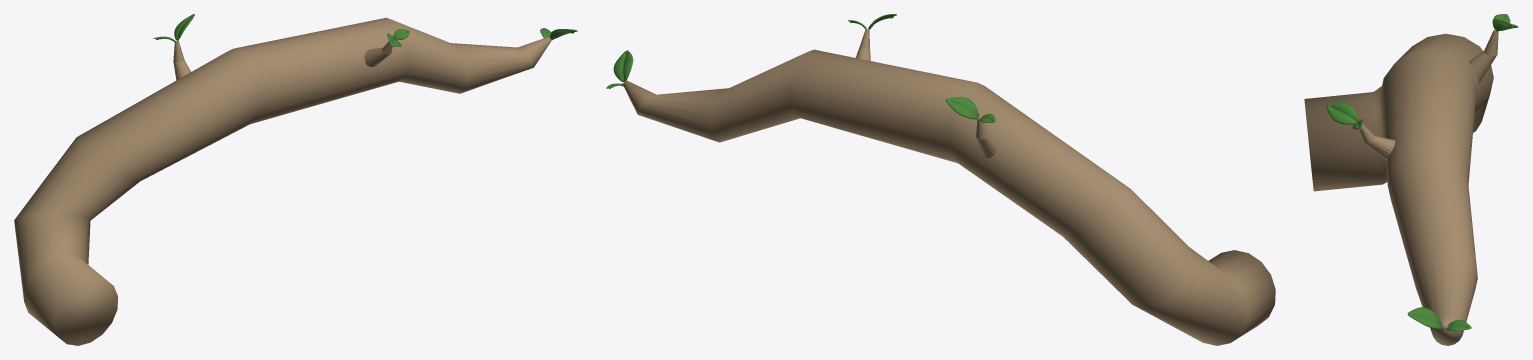
File: Branch Platform.fbx
3 renders of one model, left to right at view 1: azimuth 30°, elevation 25°; view 2: azimuth 150°, elevation 25°; view 3: azimuth 270°, elevation 25°, orthographic. The views are drawn at different scales.
Parts seen in each view (by area): view 1: Cylinder; view 2: Cylinder, Cylinder.001; view 3: Cylinder, Cylinder.001, Cylinder.002, Plane.004, Plane, Plane.001, Plane.002.
Boxes of the visible parts, box(x1,y1,x2,y2) form: Cylinder: box(14, 17, 551, 345); Cylinder: box(623, 49, 1275, 345); Cylinder.001: box(976, 117, 998, 158); Cylinder: box(1304, 33, 1493, 345); Cylinder.001: box(1469, 29, 1498, 83); Cylinder.002: box(1358, 122, 1395, 160); Plane.004: box(1326, 102, 1358, 124); Plane: box(1407, 307, 1442, 329); Plane.001: box(1446, 320, 1471, 331); Plane.002: box(1492, 19, 1518, 31).
Size of the model in its own units: 585 by 221 by 155.
